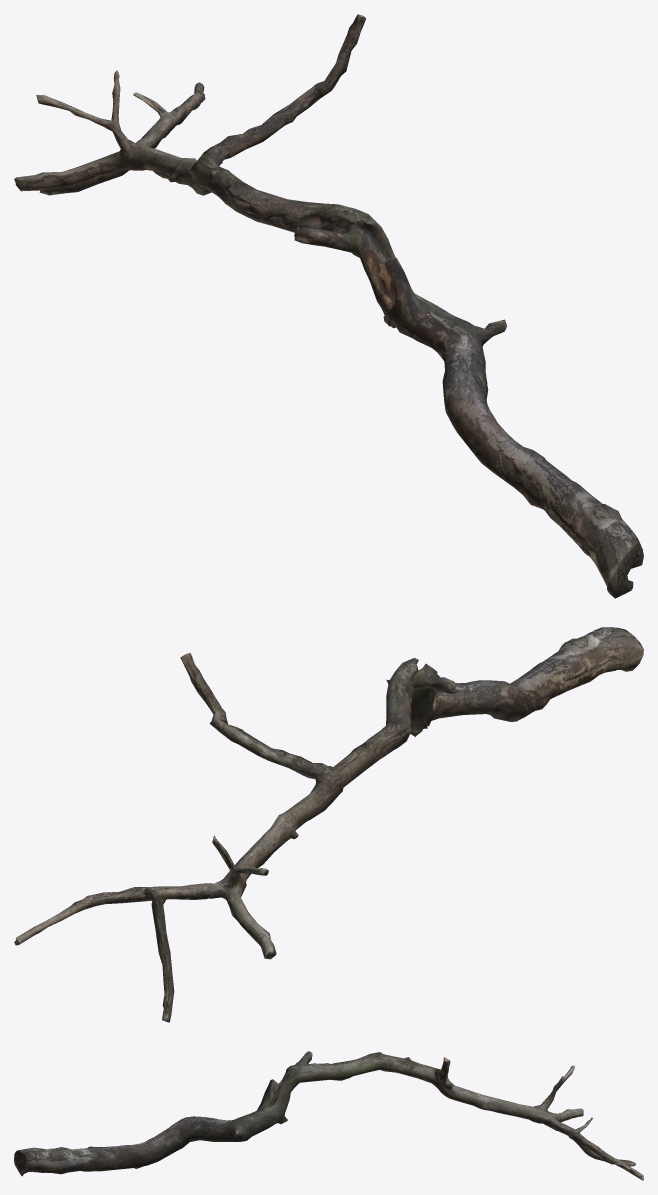
The model's file is kuru_dal_a.gltf.
3 renders of one model, top to bottom at view 1: azimuth 30°, elevation 25°; view 2: azimuth 150°, elevation 25°; view 3: azimuth 270°, elevation 25°, orthographic. The views are drawn at different scales.
Parts seen in each view (by area): view 1: kuru_dal_a; view 2: kuru_dal_a; view 3: kuru_dal_a.
Boxes of the visible parts, <box> form: kuru_dal_a: <box>14,14,643,598</box>; kuru_dal_a: <box>14,627,643,1022</box>; kuru_dal_a: <box>14,1051,643,1180</box>.
Size of the model in its own units: 0.3231 by 0.3403 by 1.3.
Materials: 1 (1 with a texture image).
